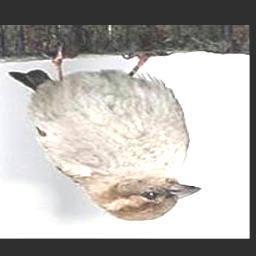Sparrow: (7, 43, 202, 223)
